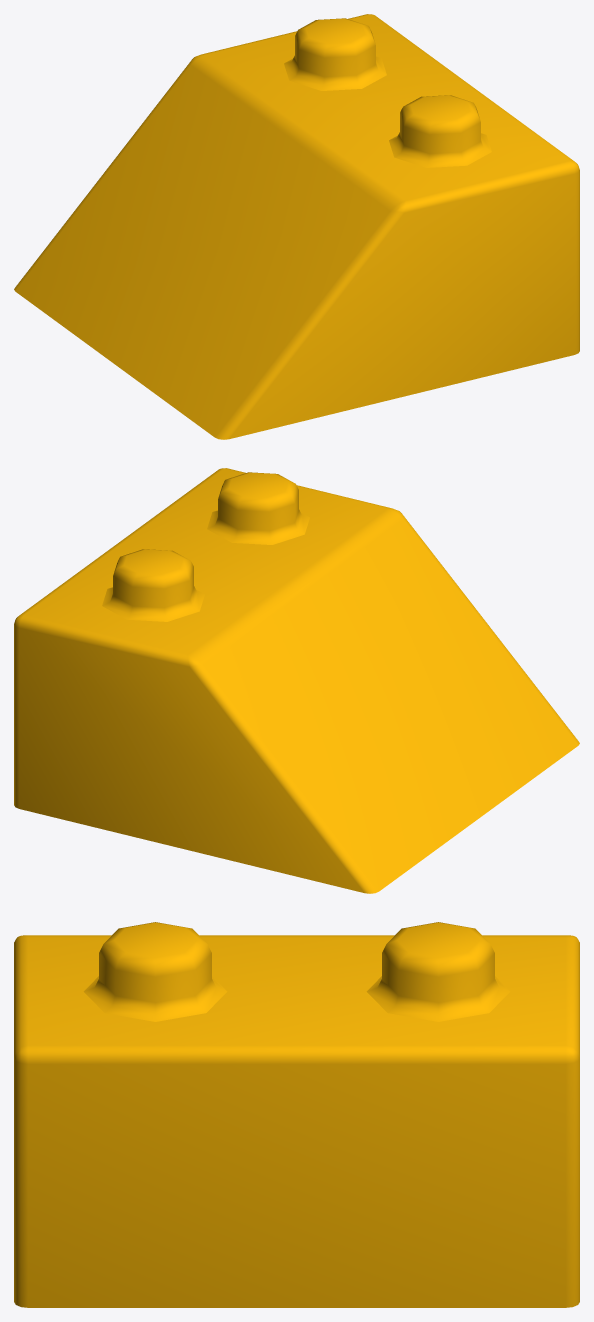
Rendered from Half_Ramp_Half.fbx.
The picture shows the model from 3 angles, top to bottom: view 1: azimuth 30°, elevation 25°; view 2: azimuth 150°, elevation 25°; view 3: azimuth 270°, elevation 25°; orthographic projection. The views are drawn at different scales.
Visible parts, largest first — view 1: Half_Ramp_Half, Knobs.014; view 2: Half_Ramp_Half, Knobs.014; view 3: Half_Ramp_Half, Knobs.014.
Part boxes in pixels (bbox=[...]): Half_Ramp_Half: bbox=[14, 14, 579, 439]; Knobs.014: bbox=[284, 18, 491, 167]; Half_Ramp_Half: bbox=[14, 468, 579, 893]; Knobs.014: bbox=[102, 472, 309, 621]; Half_Ramp_Half: bbox=[14, 935, 579, 1307]; Knobs.014: bbox=[83, 922, 510, 1021].
Size of the model in its own units: 1 by 0.6 by 1.
